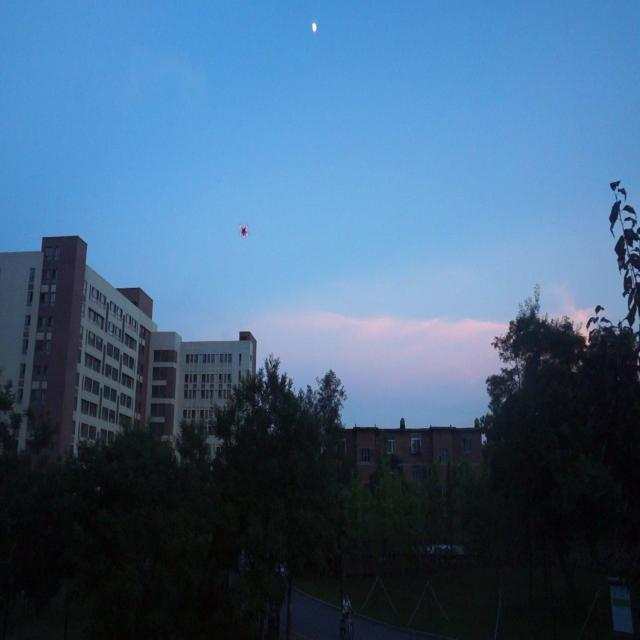drone: (236, 218, 252, 240)
